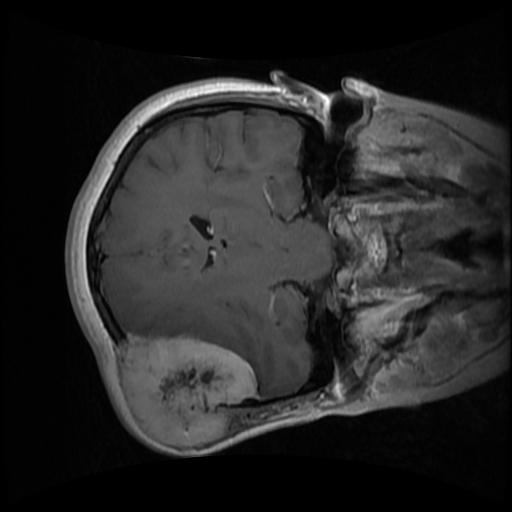meningioma: (116, 333, 258, 446)
